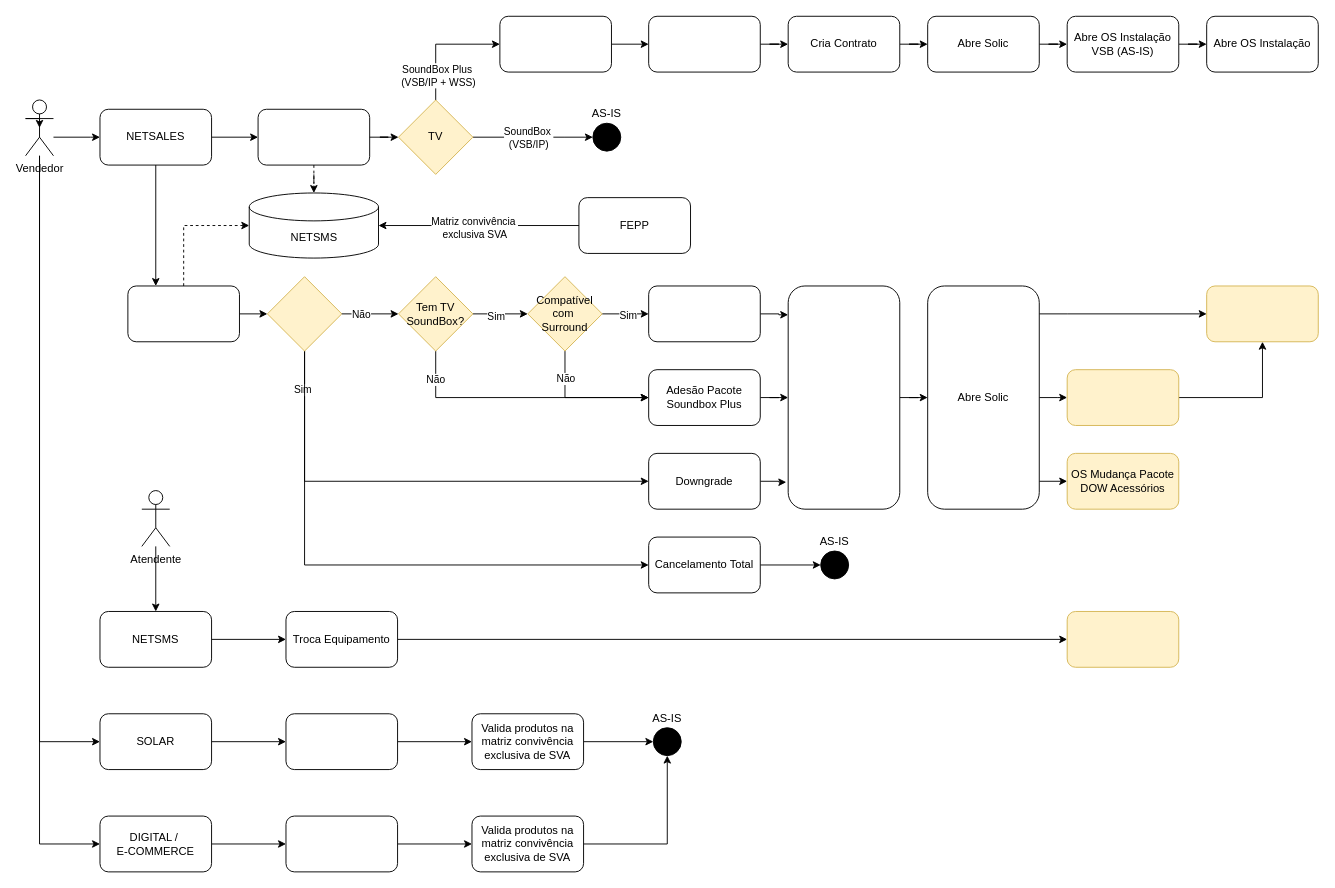
This 1335x888 diagram has some shape labels left out. The shapes that lost their labels are listed below. From the top down, each one's centre as x and y in pixels, then its label:
At pixel 555 43: "Adesão Pacote (produto principal + SVA)".
At pixel 704 43: "Cria Proposta".
At pixel 313 136: "Venda Prospect".
At pixel 183 313: "Venda Base".
At pixel 304 313: "Tem TV SoundBox Plus?".
At pixel 704 313: "Adesão SVA Surround".
At pixel 1262 313: "OS Mudança Pacote UPG Acessórios".
At pixel 843 397: "Altera Proposta Assinante".
At pixel 1122 397: "OS Mudança Pacote RET Acessórios".
At pixel 1122 639: "OS Mudança Pacote VT Acessórios".
At pixel 341 741: "API Venda Prospect Solar".
At pixel 341 843: "API Venda Digital".
